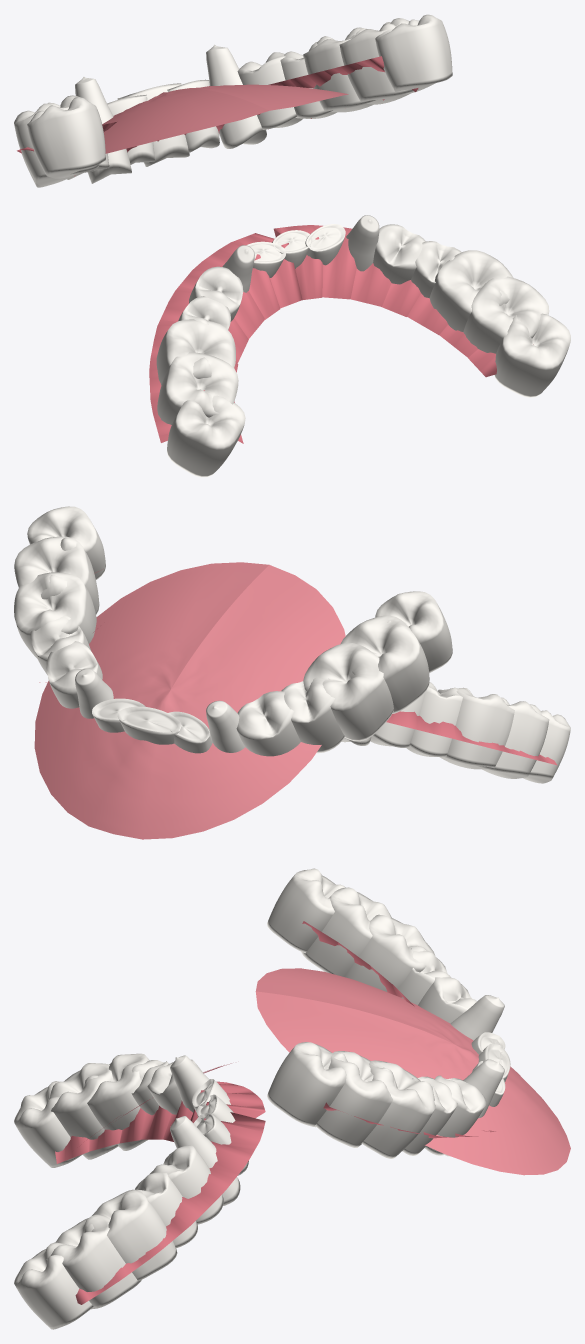
Rendered from dental_arch.glb.
3 views of the same model, one above another, from view 1: azimuth 30°, elevation 25°; view 2: azimuth 150°, elevation 25°; view 3: azimuth 270°, elevation 25° (orthographic).
Visible parts, largest first — view 1: Lower_Gum, Palate, Tooth_18, Tooth_28, Tooth_48, Tooth_38, Tooth_37, Tooth_36, Tooth_47, Tooth_46, Tooth_27, Tooth_26 (+18 smaller); view 2: Palate, Tooth_16, Tooth_17, Tooth_26, Tooth_46, Tooth_27, Tooth_14, Tooth_18, Tooth_15, Tooth_47, Tooth_28, Tooth_45 (+10 smaller); view 3: Palate, Lower_Gum, Tooth_28, Tooth_27, Tooth_37, Tooth_26, Tooth_36, Tooth_18, Tooth_17, Tooth_38, Tooth_16, Tooth_47 (+18 smaller).
Part boxes in pixels (x1=…): Lower_Gum: x1=149, y1=225, x2=533, y2=443; Palate: x1=102, y1=84, x2=348, y2=153; Tooth_18: x1=27, y1=97, x2=105, y2=178; Tooth_28: x1=375, y1=14, x2=452, y2=94; Tooth_48: x1=167, y1=391, x2=245, y2=477; Tooth_38: x1=494, y1=313, x2=570, y2=397; Tooth_37: x1=463, y1=276, x2=549, y2=353; Tooth_36: x1=429, y1=250, x2=513, y2=331; Tooth_47: x1=157, y1=352, x2=238, y2=424; Tooth_46: x1=156, y1=319, x2=235, y2=384; Tooth_27: x1=339, y1=18, x2=418, y2=104; Tooth_26: x1=303, y1=27, x2=375, y2=112; Palate: x1=34, y1=562, x2=345, y2=839; Tooth_16: x1=303, y1=643, x2=393, y2=741; Tooth_17: x1=340, y1=615, x2=429, y2=713; Tooth_26: x1=14, y1=572, x2=96, y2=658; Tooth_46: x1=438, y1=687, x2=514, y2=769; Tooth_27: x1=14, y1=536, x2=99, y2=614; Tooth_14: x1=236, y1=691, x2=300, y2=756; Tooth_18: x1=375, y1=591, x2=452, y2=672; Tooth_15: x1=281, y1=677, x2=344, y2=753; Tooth_47: x1=475, y1=696, x2=549, y2=778; Tooth_28: x1=27, y1=506, x2=105, y2=579; Tooth_45: x1=406, y1=682, x2=462, y2=756; Palate: x1=255, y1=968, x2=570, y2=1175; Lower_Gum: x1=55, y1=1081, x2=265, y2=1304; Tooth_28: x1=267, y1=1042, x2=347, y2=1127; Tooth_27: x1=315, y1=1051, x2=397, y2=1147; Tooth_37: x1=46, y1=1214, x2=141, y2=1309; Tooth_26: x1=361, y1=1060, x2=435, y2=1158; Tooth_36: x1=83, y1=1189, x2=177, y2=1281; Tooth_18: x1=267, y1=868, x2=345, y2=953; Tooth_17: x1=301, y1=887, x2=391, y2=976; Tooth_38: x1=14, y1=1242, x2=93, y2=1329; Tooth_16: x1=344, y1=914, x2=435, y2=991; Tooth_47: x1=48, y1=1063, x2=118, y2=1159.
Bounding box in the file's own units: 7.42 × 4.82 × 8.52.
